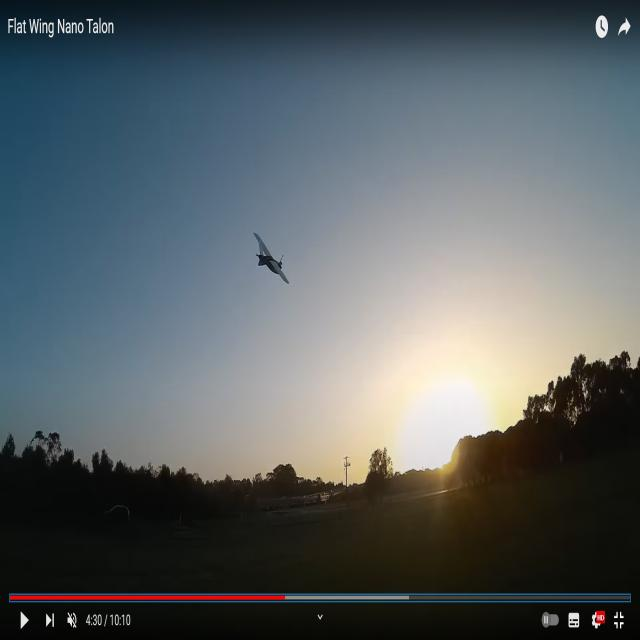iha: (253, 234, 291, 286)
